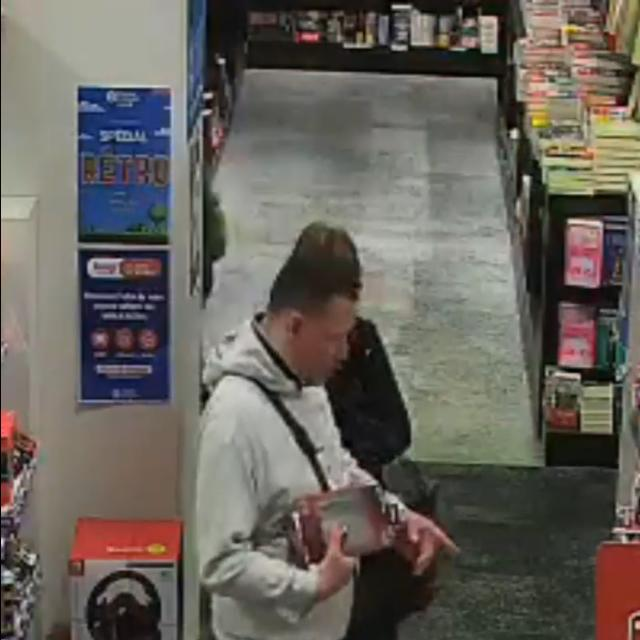article: (299, 484, 398, 564)
bags: (348, 549, 437, 637), (350, 548, 437, 628)
hands: (406, 511, 459, 575), (317, 527, 356, 601)
person: (196, 255, 374, 639), (326, 317, 411, 482)
